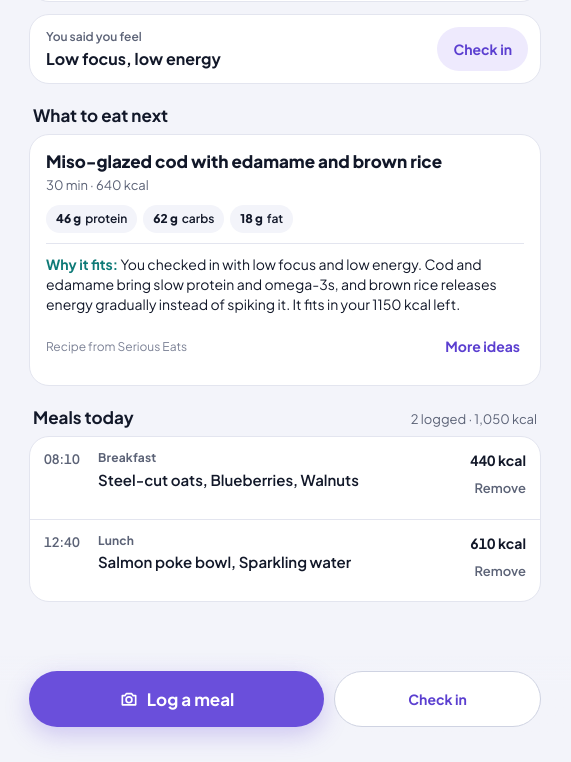
Test: Today › asks for what is missing and removes a meal
(page scrolled)
Step 1. Click the button with aria-label "Remove Steel-cut oats, Blueberries, Walnuts" → (500, 489), box [469, 471, 532, 507]
(page scrolled)
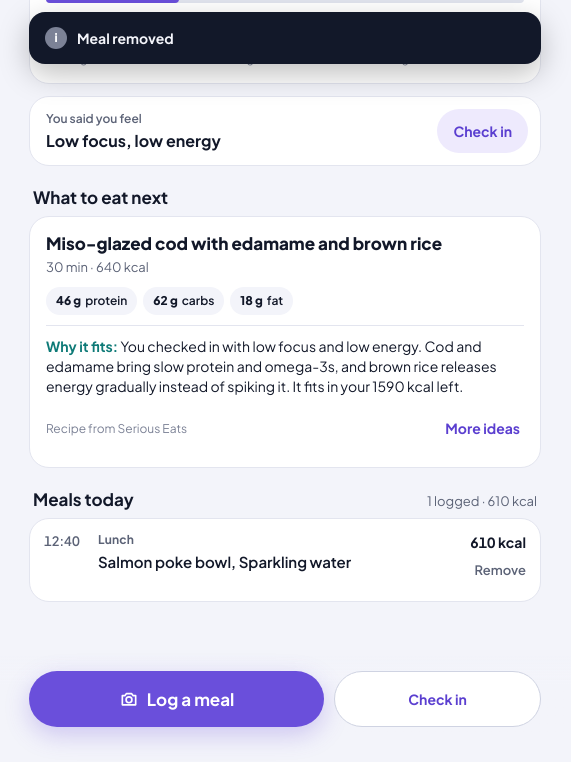
Result: the text "Meal removed" is shown at [77, 29, 174, 47]
Result: the heading "Steel-cut oats, Blueberries, Walnuts" is gone
